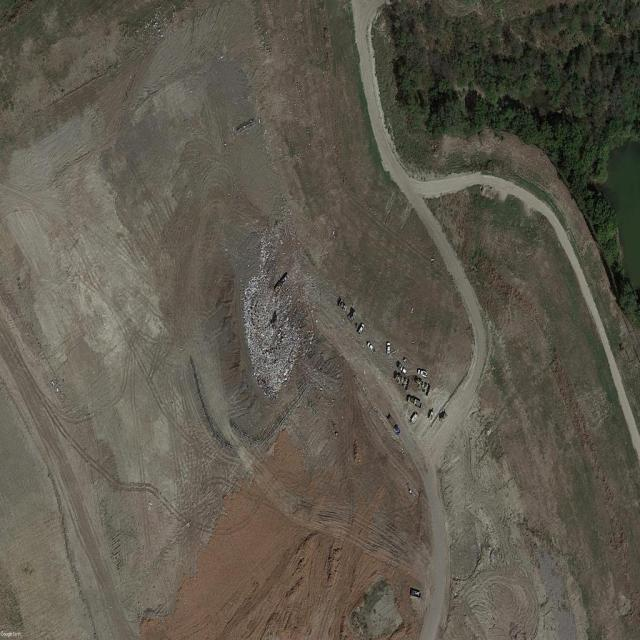dump_site: (217, 232, 314, 406)
